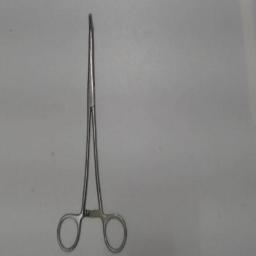Lahey Forceps: (54, 12, 128, 254)
